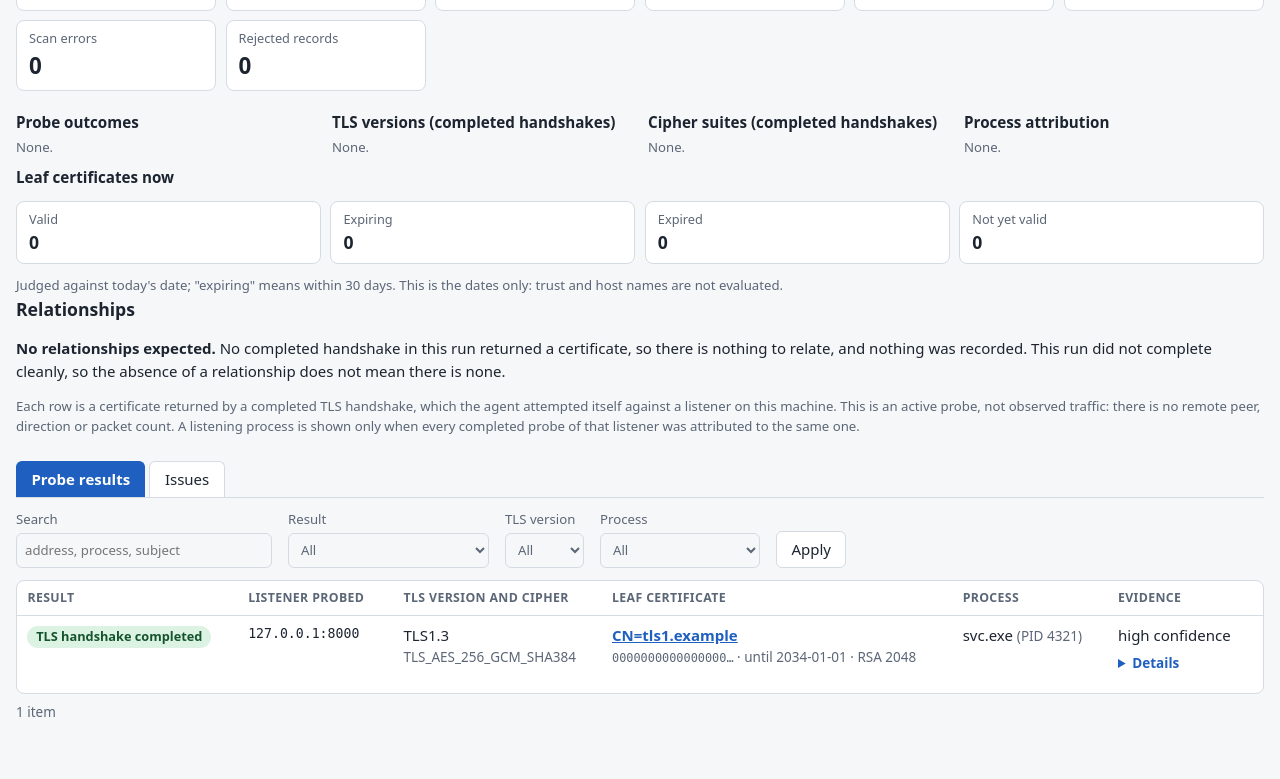
Scenario: states that must not look like a clean empty result › lists recorded scan errors and refusals
The image size is (1280, 779).
(page scrolled)
Click the tab "Issues" at x=187, y=479, box [150,461,225,497]
(page scrolled)
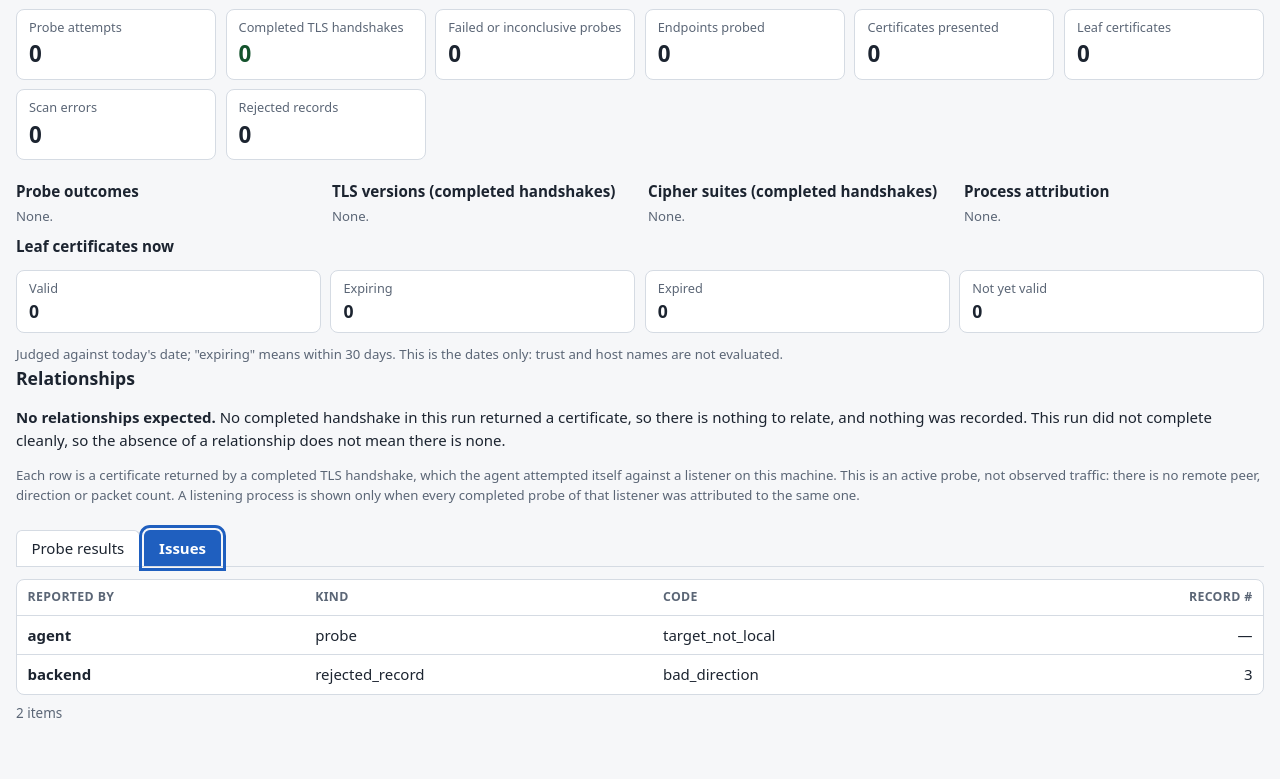
Expected: the text "3" is shown, [1037,654,1263,694]
Expected: the text "target_not_local" is shown, [653,616,1037,654]
Expected: the text "bad_direction" is shown, [653,654,1037,694]
